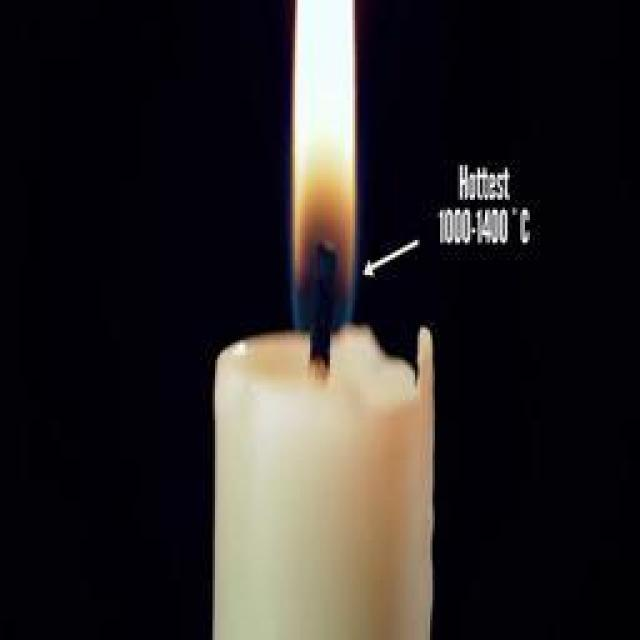Fire: (290, 1, 358, 331)
